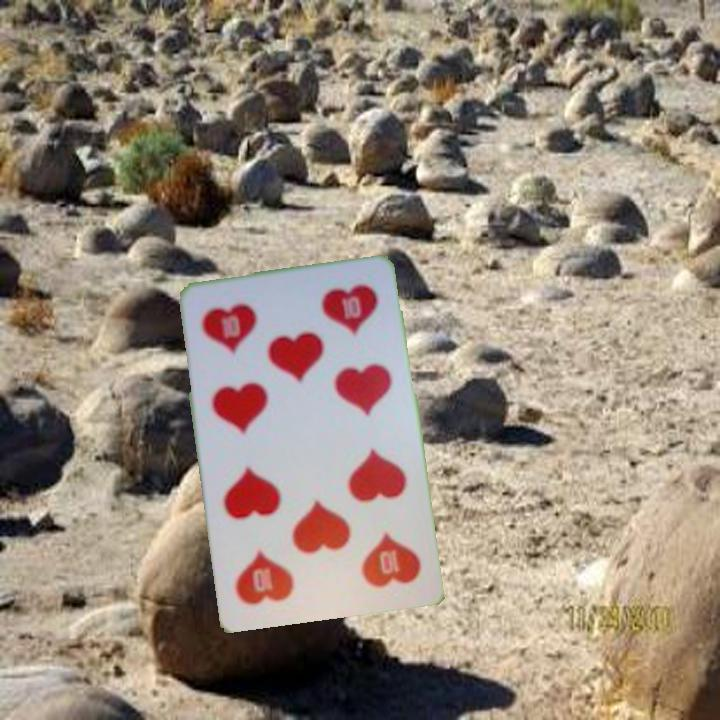h_10.png: (192, 284, 302, 382), (317, 505, 427, 603)
